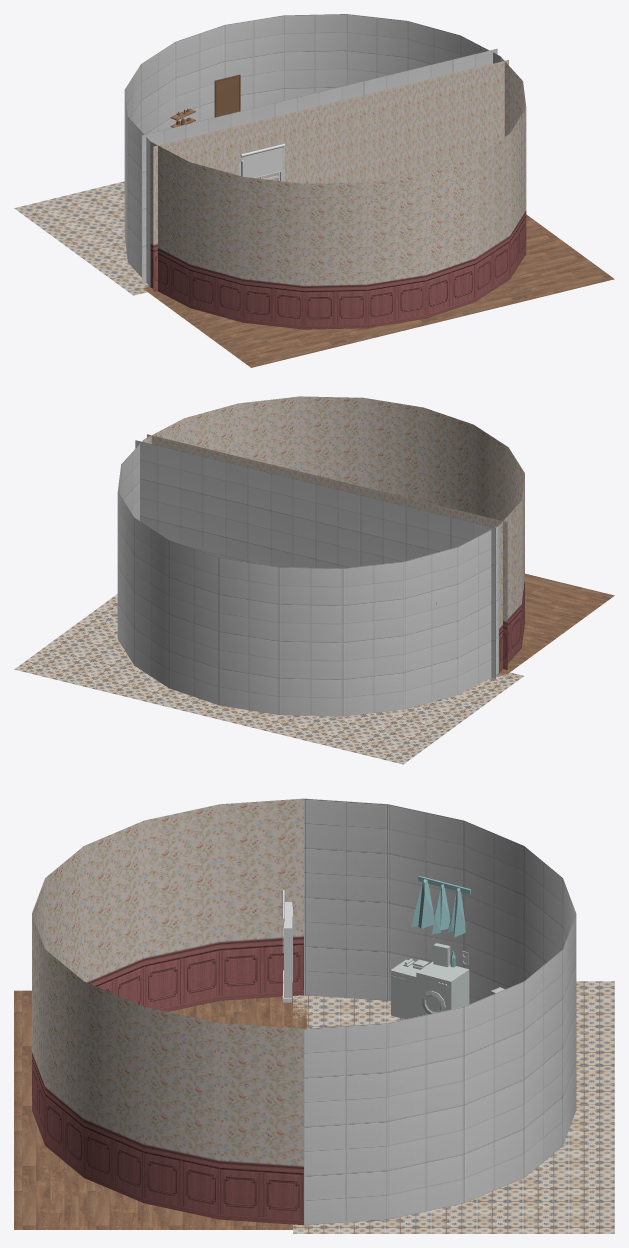
Rendered from thirdlayer.fbx.
The picture shows the model from 3 angles, top to bottom: view 1: azimuth 30°, elevation 25°; view 2: azimuth 150°, elevation 25°; view 3: azimuth 270°, elevation 25°; orthographic projection. The views are drawn at different scales.
Visible parts, largest first — view 1: bedroomWall_mesh, bathroomWall2_mesh, bedroomWall2_mesh, bedroom_floor_mesh, bathroomfloor_mesh, bathroomwall, windows:low_poly_interior.652, mirror_mesh; view 2: bathroomWall2_mesh, bedroomWall_mesh, bathroomwall, bathroomfloor_mesh, bedroom_floor_mesh, bedroomWall2_mesh; view 3: bedroomWall_mesh, bathroomWall2_mesh, bathroomfloor_mesh, bedroom_floor_mesh, washer_mesh, towel_mesh, shelf_mesh, windows:low_poly_interior.651.
Part boxes in pixels (x1,y1,x2,y2): bedroomWall_mesh: (150, 56, 526, 329); bathroomWall2_mesh: (124, 14, 500, 286); bedroomWall2_mesh: (153, 60, 508, 292); bedroom_floor_mesh: (143, 214, 614, 367); bathroomfloor_mesh: (14, 181, 149, 295); bathroomwall: (142, 48, 497, 283); windows:low_poly_interior.652: (240, 143, 285, 181); mirror_mesh: (214, 74, 240, 117); bathroomWall2_mesh: (117, 440, 498, 716); bedroomWall_mesh: (144, 396, 524, 672); bathroomwall: (135, 440, 495, 678); bathroomfloor_mesh: (14, 594, 523, 764); bedroom_floor_mesh: (498, 573, 614, 675); bedroomWall2_mesh: (147, 434, 507, 669); bedroomWall_mesh: (32, 798, 303, 1225); bathroomWall2_mesh: (304, 798, 576, 1225); bathroomfloor_mesh: (293, 981, 614, 1233); bedroom_floor_mesh: (14, 990, 306, 1229); washer_mesh: (416, 943, 469, 1016); towel_mesh: (411, 876, 470, 937); shelf_mesh: (390, 958, 428, 1019); windows:low_poly_interior.651: (283, 902, 292, 1002).
Bounding box in the file's own units: 19.11 × 7.1 × 19.21.
